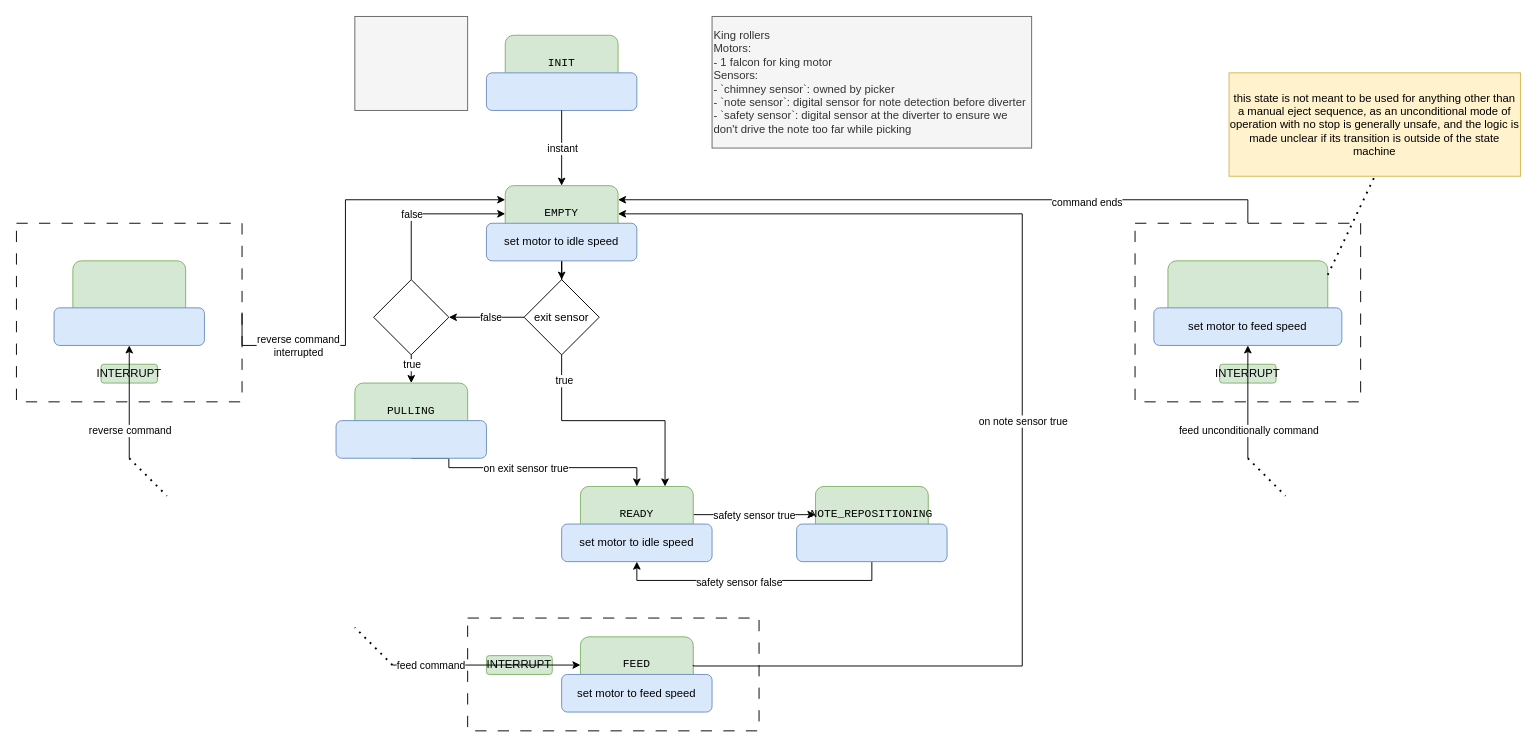
This 1537x747 diagram has some shape labels left out. Here are the shapes that lost their labels. From the top down, the centre of each, then its label:
At point 411,63: "King Roller Speeds: - Idle - Pick - Feed - Reverse - Reverse Slow".
At point 561,91: "no init".
At point 129,288: "REVERSE".
At point 1247,288: "FEED_UNCONDITIONALLY".
At point 128,326: "set motor to reverse speed".
At point 411,317: "chimney sensor".
At point 410,439: "set motor to pick speed".
At point 871,542: "set motor to reverse slow speed".
